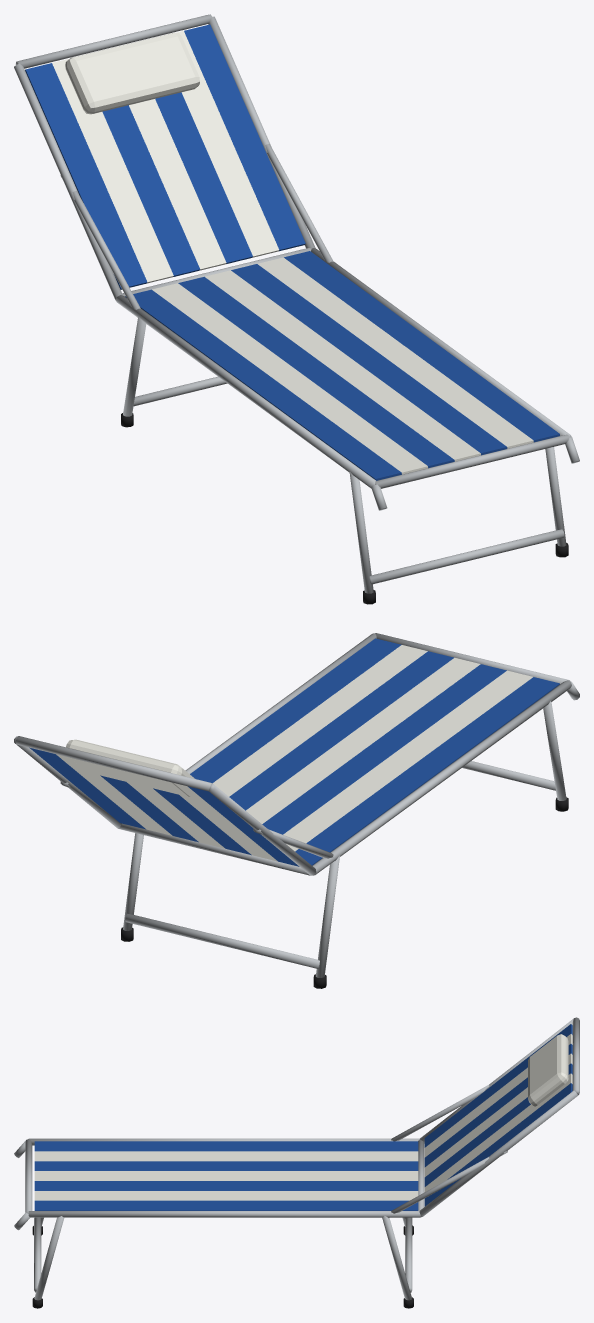
File: Espreguicadeira.fbx
3 renders of one model, top to bottom at view 1: azimuth 30°, elevation 25°; view 2: azimuth 150°, elevation 25°; view 3: azimuth 270°, elevation 25°, orthographic. The views are drawn at different scales.
Parts seen in each view (by area): view 1: Espreguicadeira; view 2: Espreguicadeira; view 3: Espreguicadeira.
Part boxes in pixels (x1,y1,x2,y2): Espreguicadeira: (14, 14, 579, 604); Espreguicadeira: (14, 633, 579, 988); Espreguicadeira: (14, 1017, 579, 1308).
Size of the model in its own units: 0.604 by 0.8003 by 1.89.
